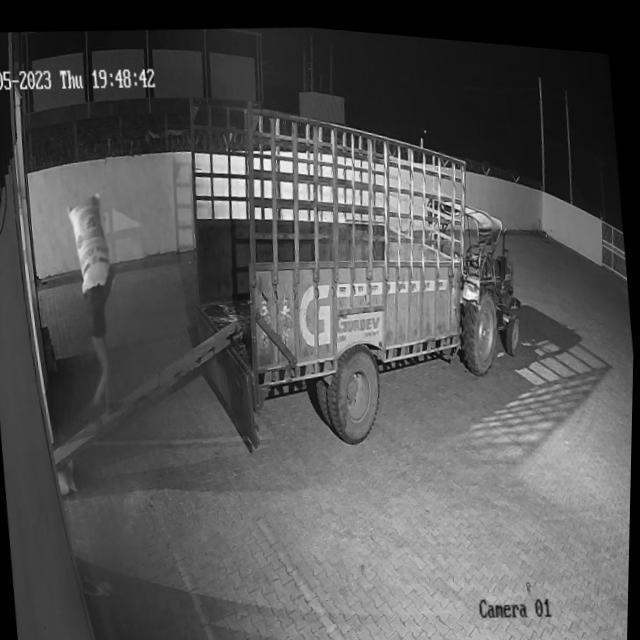sack: (65, 187, 118, 292)
